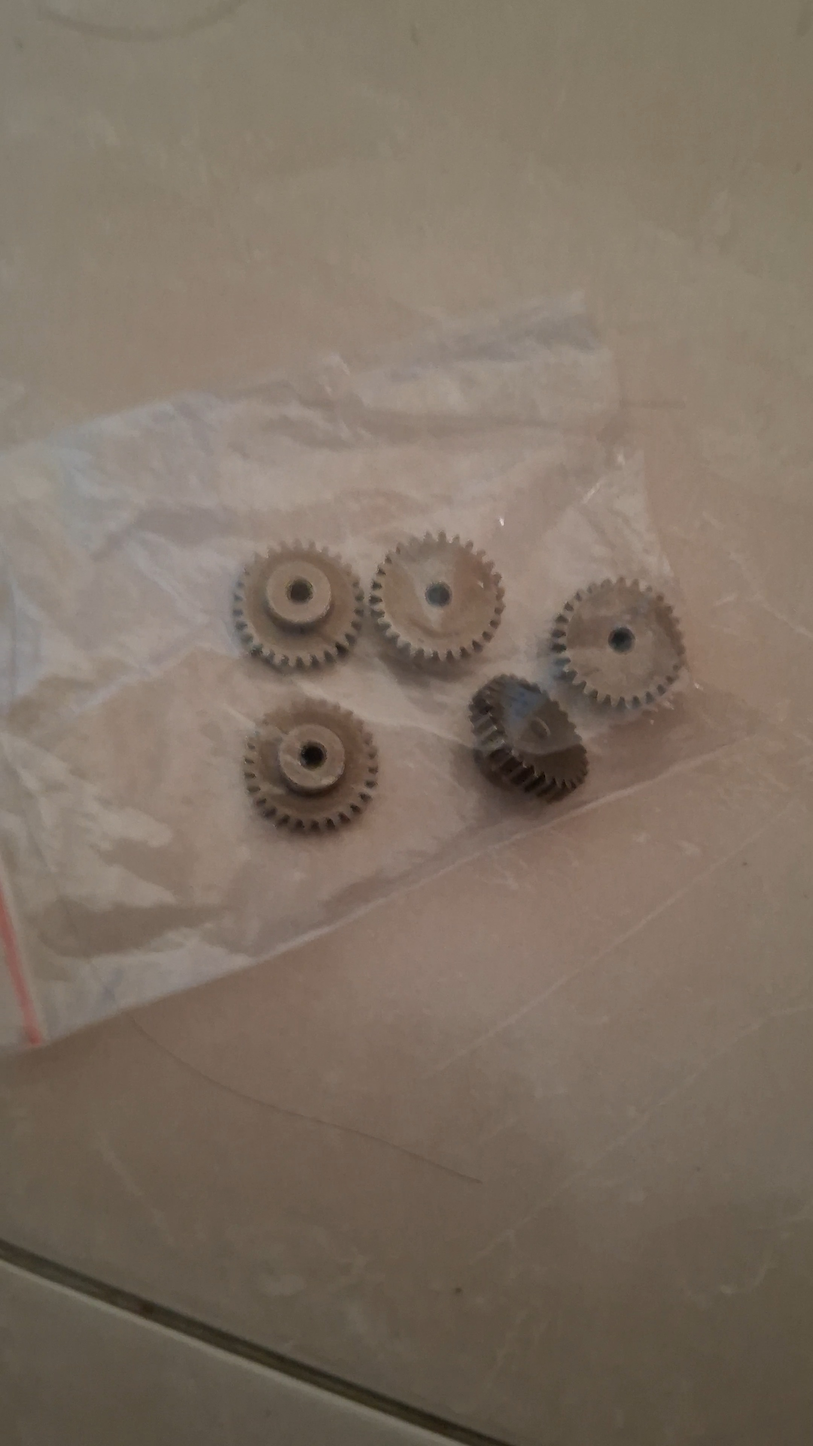spur gear: (244, 698, 378, 830), (370, 533, 504, 663), (551, 578, 684, 707), (233, 542, 364, 668), (469, 675, 588, 800)
